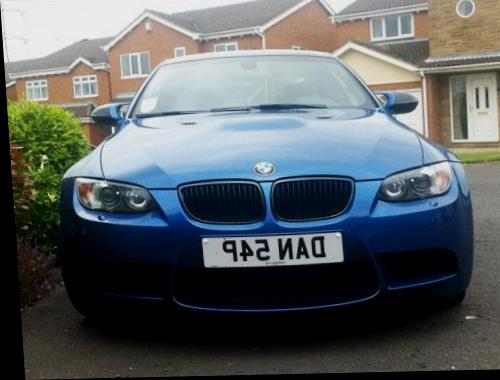License_Plate: (203, 229, 345, 269)
